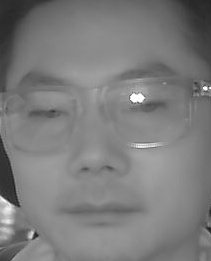eye: (28, 103, 69, 123)
glass: (100, 75, 196, 146), (2, 85, 83, 151)
mouth: (60, 193, 130, 230)
